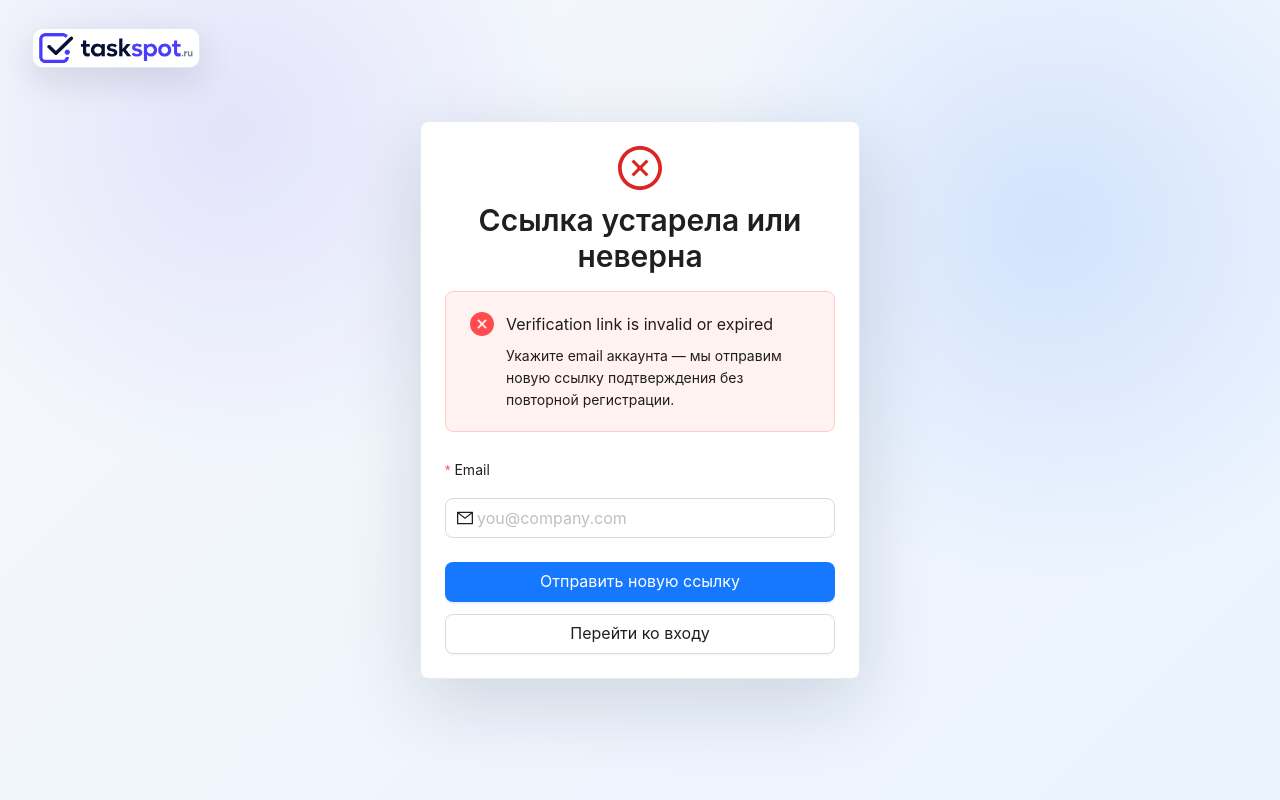
Test case: registration and email verification flow › recovers from an expired link without asking the user to register again
The image size is (1280, 800).
Expected: the heading "Ссылка устарела или неверна" is shown, [479,202,801,274]
In the field labelled "Email": (650, 518) [477,506,823,530], type "new@example.com"
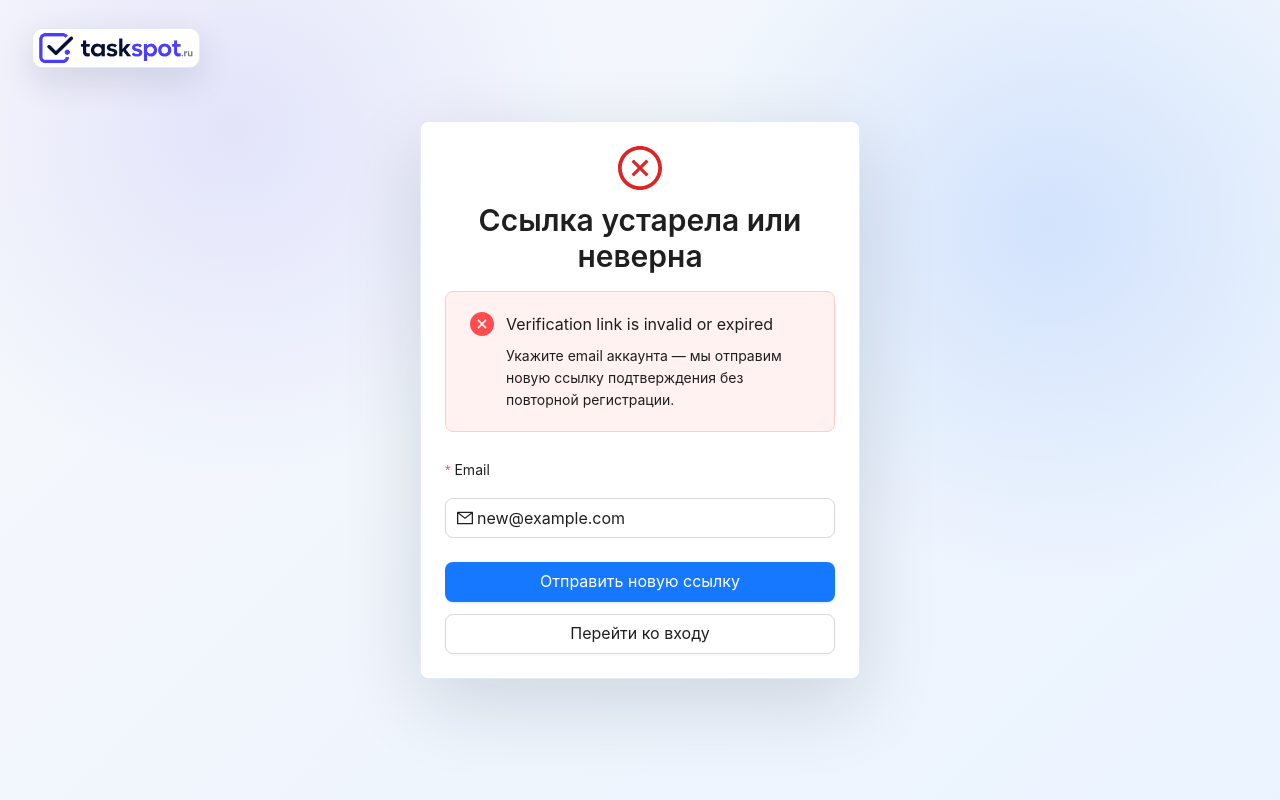
Click the button "Отправить новую ссылку": (640, 582) [445,562,835,602]
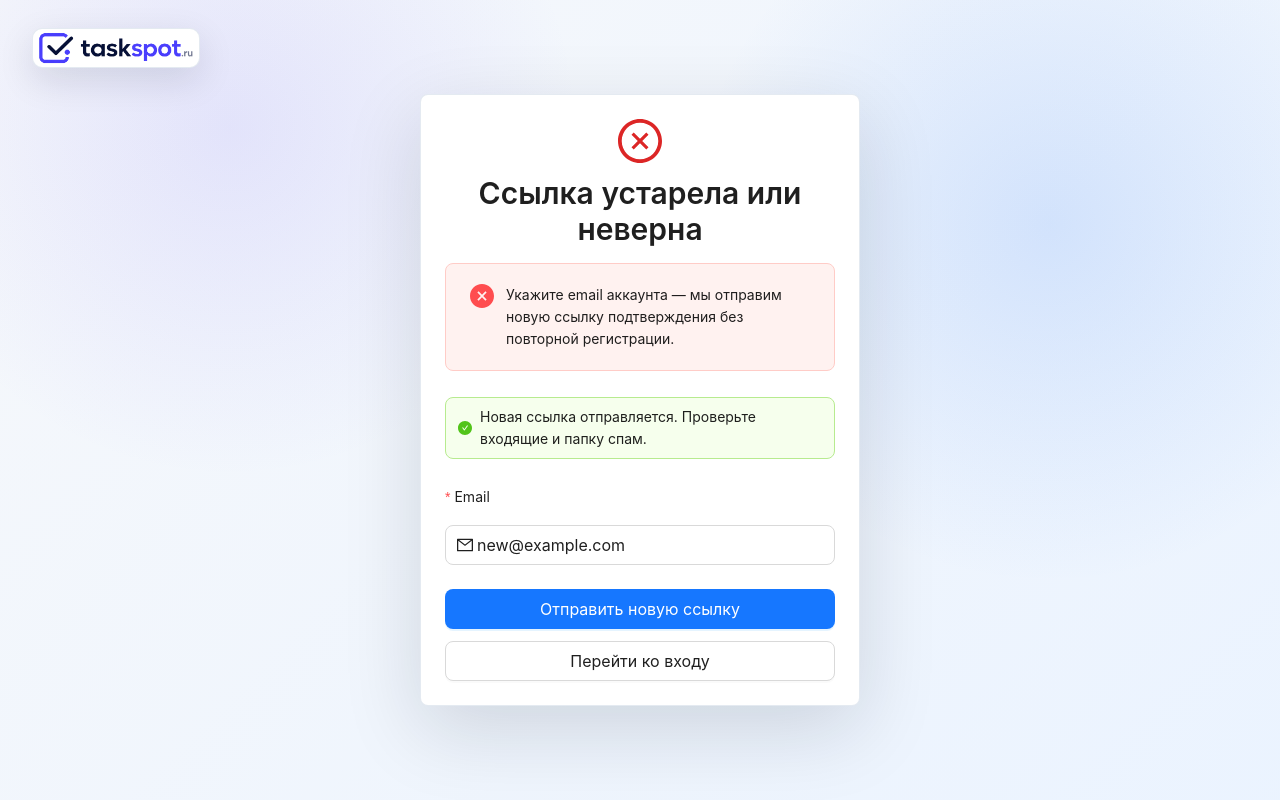
Now the text "Новая ссылка отправляется. Проверьте входящие и папку спам." is shown, box [480,408,756,447]
